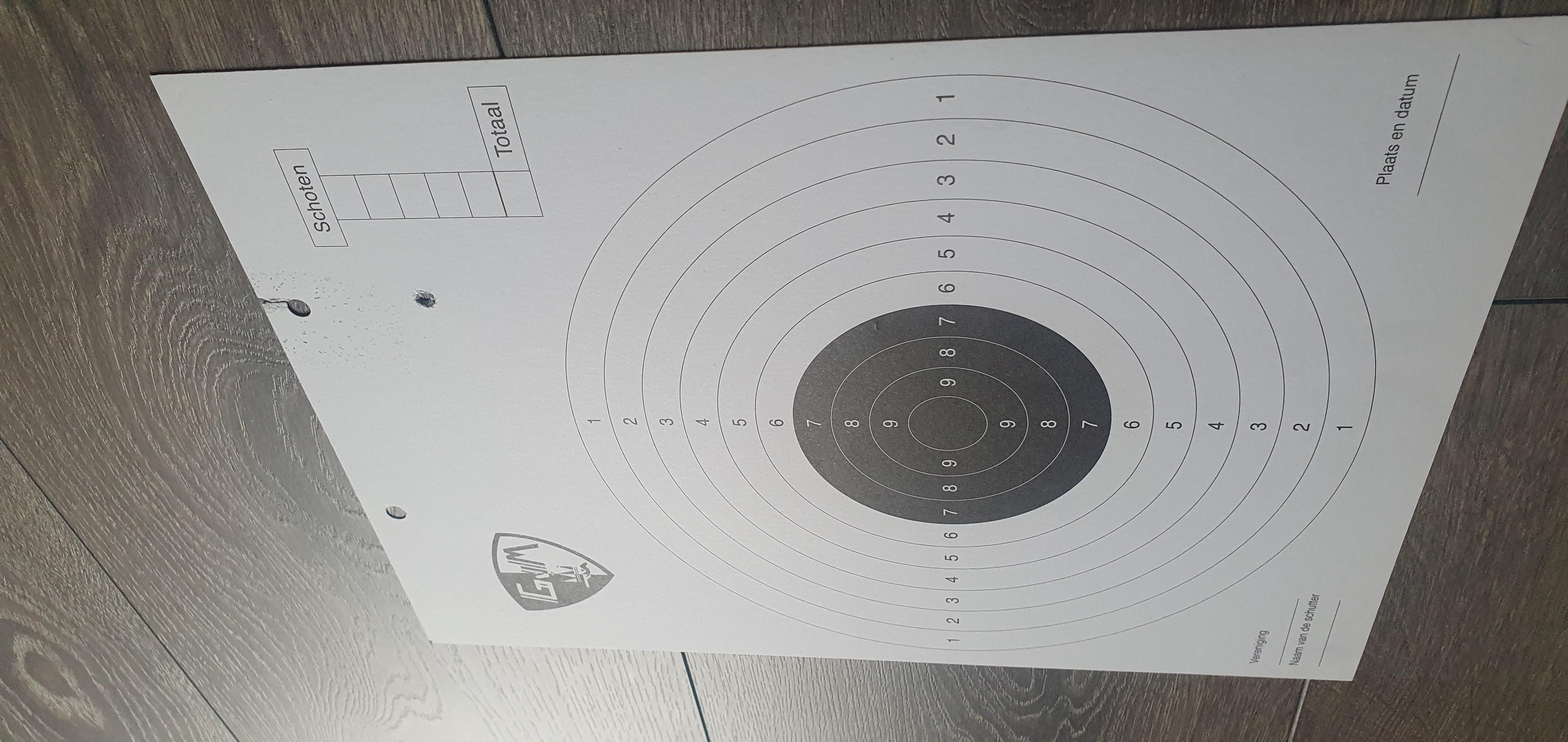hole: (1131, 429, 1156, 455)
